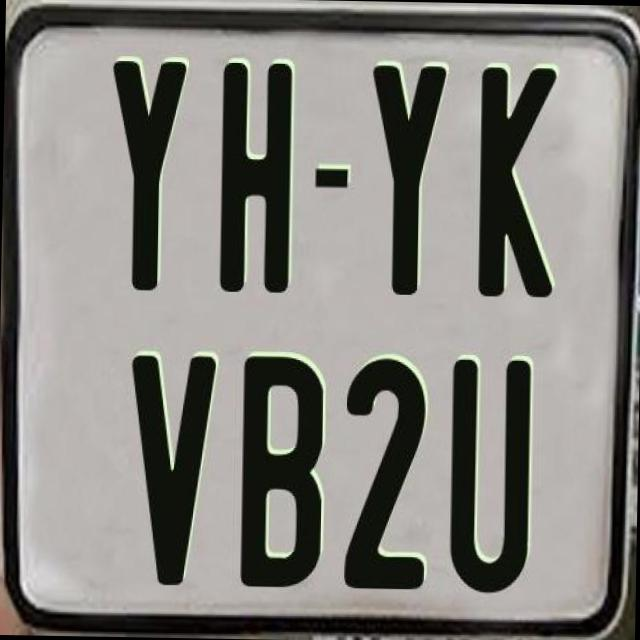2: (339, 352, 429, 592)
B: (240, 354, 330, 588)
H: (218, 62, 292, 294)
K: (476, 64, 556, 296)
U: (444, 359, 526, 602)
V: (127, 351, 217, 588)
Y: (368, 60, 448, 300), (106, 57, 184, 290)
